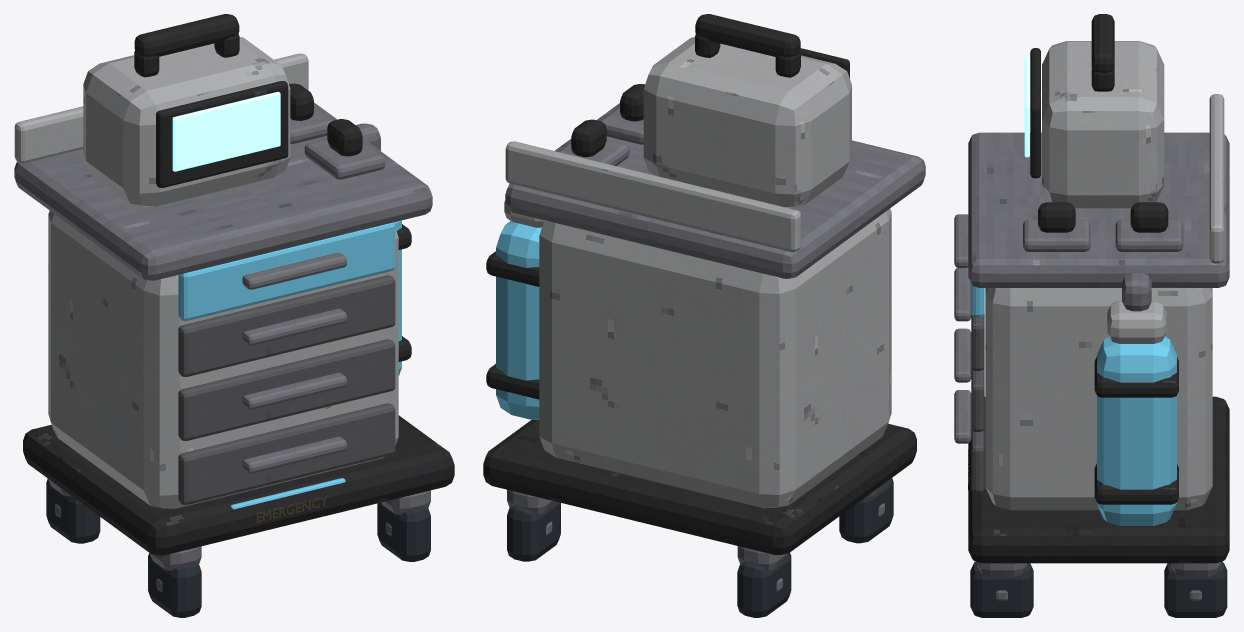
The model's file is decor_med_crash_cart.glb.
3 renders of one model, left to right at view 1: azimuth 30°, elevation 25°; view 2: azimuth 150°, elevation 25°; view 3: azimuth 270°, elevation 25°, orthographic. The views are drawn at different scales.
Parts seen in each view (by area): view 1: DEC_MedCrashCart__Cabinet, DEC_MedCrashCart__Work_Tray, DEC_MedCrashCart__Chassis, DEC_MedCrashCart__Defibrillator, DEC_MedCrashCart__Drawer_1, DEC_MedCrashCart__Drawer_2, DEC_MedCrashCart__Drawer_3, DEC_MedCrashCart__Drawer_4, DEC_MedCrashCart__Defib_Display, DEC_MedCrashCart__Defib_Bezel, DEC_MedCrashCart__Tray_Backstop, DEC_MedCrashCart__Defib_Handle (+14 smaller); view 2: DEC_MedCrashCart__Cabinet, DEC_MedCrashCart__Defibrillator, DEC_MedCrashCart__Chassis, DEC_MedCrashCart__Work_Tray, DEC_MedCrashCart__Tray_Backstop, DEC_MedCrashCart__Oxygen_Bottle, DEC_MedCrashCart__Defib_Handle, DEC_MedCrashCart__Cart_Wheel_3, DEC_MedCrashCart__Cart_Wheel_4, DEC_MedCrashCart__Cart_Wheel_1, DEC_MedCrashCart__Paddle_Grip_2, DEC_MedCrashCart__Bottle_Retaining_Strap_1 (+6 smaller); view 3: DEC_MedCrashCart__Cabinet, DEC_MedCrashCart__Work_Tray, DEC_MedCrashCart__Defibrillator, DEC_MedCrashCart__Chassis, DEC_MedCrashCart__Oxygen_Bottle, DEC_MedCrashCart__Cart_Wheel_4, DEC_MedCrashCart__Cart_Wheel_2, DEC_MedCrashCart__Tray_Backstop, DEC_MedCrashCart__Oxygen_Shoulder, DEC_MedCrashCart__Paddle_2, DEC_MedCrashCart__Paddle_1, DEC_MedCrashCart__Bottle_Retaining_Strap_1 (+18 smaller).
Part boxes in pixels (left/top/right/bottom): DEC_MedCrashCart__Cabinet: left=48, top=211, right=398, bottom=508; DEC_MedCrashCart__Work_Tray: left=14, top=102, right=432, bottom=280; DEC_MedCrashCart__Chassis: left=23, top=415, right=454, bottom=555; DEC_MedCrashCart__Defibrillator: left=83, top=37, right=290, bottom=206; DEC_MedCrashCart__Drawer_1: left=178, top=403, right=395, bottom=504; DEC_MedCrashCart__Drawer_2: left=178, top=339, right=395, bottom=440; DEC_MedCrashCart__Drawer_3: left=178, top=275, right=395, bottom=376; DEC_MedCrashCart__Drawer_4: left=178, top=222, right=395, bottom=320; DEC_MedCrashCart__Defib_Display: left=172, top=91, right=280, bottom=171; DEC_MedCrashCart__Defib_Bezel: left=156, top=81, right=288, bottom=187; DEC_MedCrashCart__Tray_Backstop: left=14, top=53, right=308, bottom=163; DEC_MedCrashCart__Defib_Handle: left=134, top=14, right=239, bottom=56; DEC_MedCrashCart__Cabinet: left=539, top=208, right=891, bottom=508; DEC_MedCrashCart__Defibrillator: left=643, top=37, right=851, bottom=207; DEC_MedCrashCart__Chassis: left=483, top=419, right=916, bottom=554; DEC_MedCrashCart__Work_Tray: left=505, top=103, right=925, bottom=278; DEC_MedCrashCart__Tray_Backstop: left=505, top=141, right=801, bottom=252; DEC_MedCrashCart__Oxygen_Bottle: left=496, top=221, right=541, bottom=419; DEC_MedCrashCart__Defib_Handle: left=695, top=14, right=800, bottom=56; DEC_MedCrashCart__Cart_Wheel_3: left=737, top=553, right=791, bottom=617; DEC_MedCrashCart__Cart_Wheel_4: left=507, top=502, right=560, bottom=561; DEC_MedCrashCart__Cart_Wheel_1: left=839, top=478, right=893, bottom=543; DEC_MedCrashCart__Paddle_Grip_2: left=571, top=119, right=606, bottom=157; DEC_MedCrashCart__Bottle_Retaining_Strap_1: left=486, top=364, right=539, bottom=399; DEC_MedCrashCart__Cabinet: left=985, top=288, right=1212, bottom=510; DEC_MedCrashCart__Work_Tray: left=968, top=132, right=1229, bottom=287; DEC_MedCrashCart__Defibrillator: left=1042, top=41, right=1164, bottom=208; DEC_MedCrashCart__Chassis: left=968, top=396, right=1229, bottom=563; DEC_MedCrashCart__Oxygen_Bottle: left=1097, top=336, right=1176, bottom=525; DEC_MedCrashCart__Cart_Wheel_4: left=1164, top=561, right=1227, bottom=617; DEC_MedCrashCart__Cart_Wheel_2: left=970, top=561, right=1033, bottom=617; DEC_MedCrashCart__Tray_Backstop: left=1209, top=94, right=1224, bottom=263; DEC_MedCrashCart__Oxygen_Shoulder: left=1107, top=301, right=1166, bottom=343; DEC_MedCrashCart__Paddle_2: left=1115, top=219, right=1183, bottom=251; DEC_MedCrashCart__Paddle_1: left=1023, top=219, right=1090, bottom=251; DEC_MedCrashCart__Bottle_Retaining_Strap_1: left=1094, top=463, right=1178, bottom=504.
Bounding box in the file's own units: 0.875 × 1.32 × 0.653.
8 materials, 4 textured.
